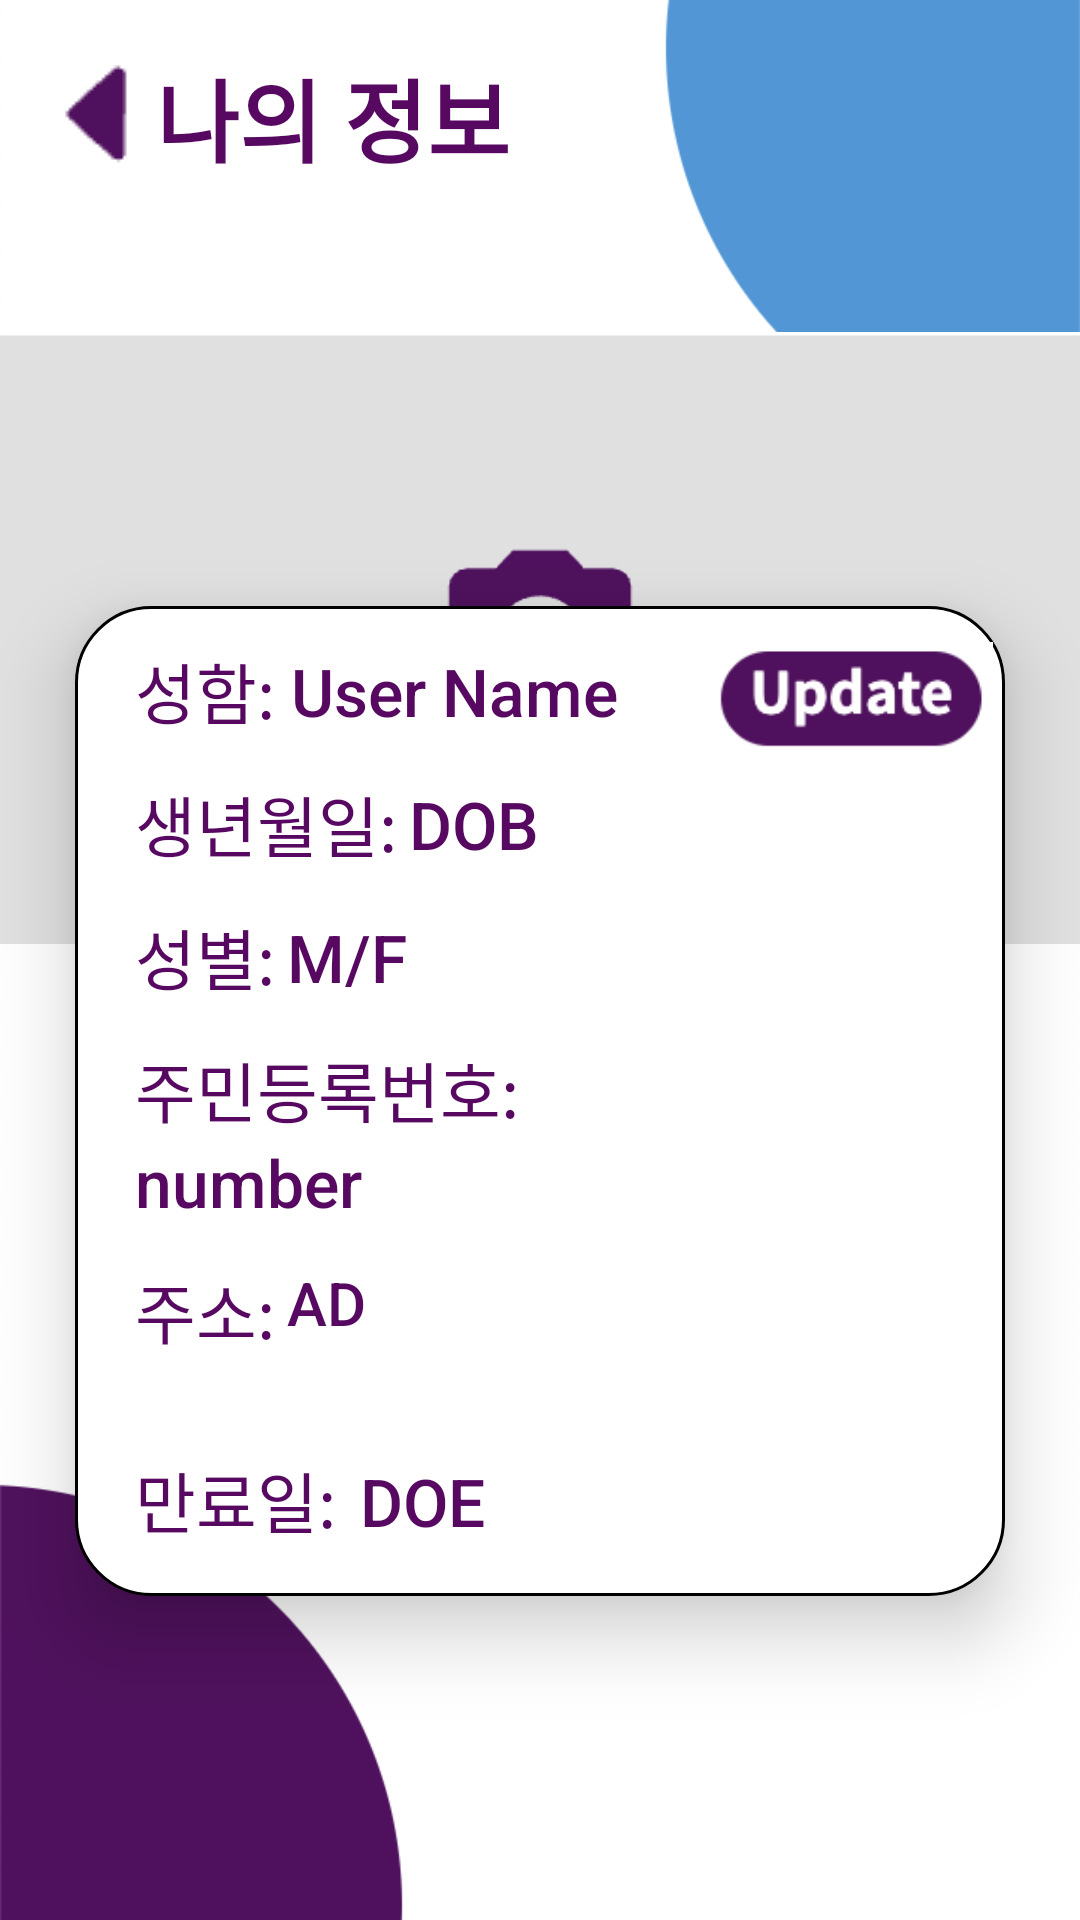

Point at icon controls on the screen. Image size 1080×1920, points as (x,y).
previous: (96,113)
